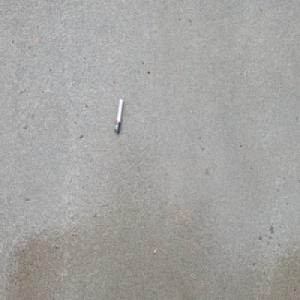Battery: (114, 98, 123, 134)
